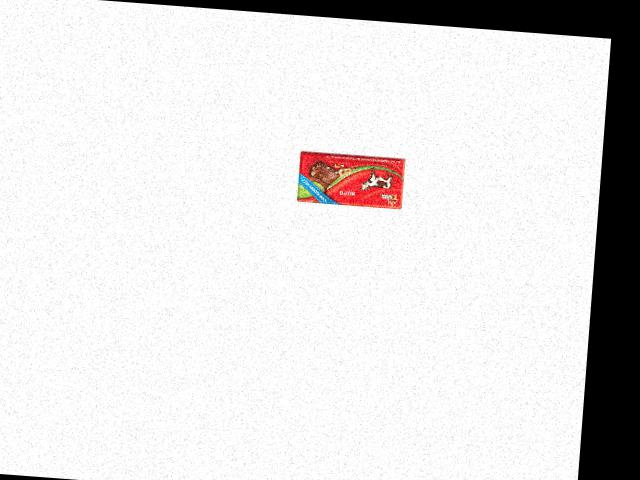chocolate: (297, 152, 409, 210)
